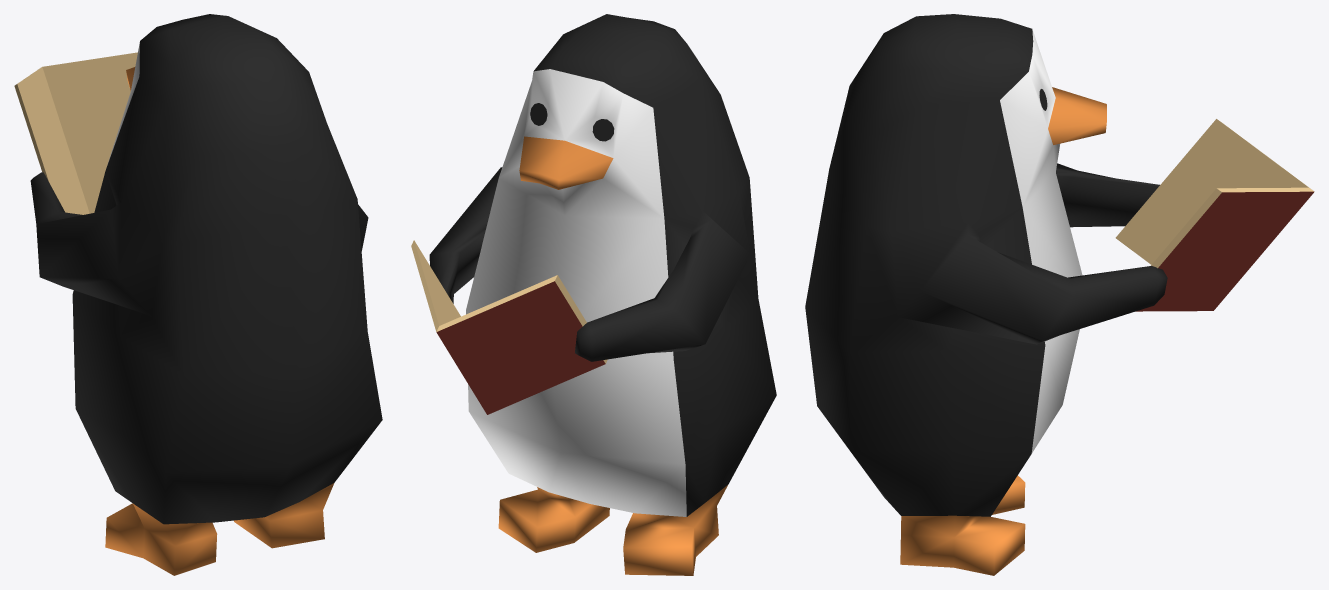
The model's file is ChoirGoop.gltf.
3 renders of one model, left to right at view 1: azimuth 30°, elevation 25°; view 2: azimuth 150°, elevation 25°; view 3: azimuth 270°, elevation 25°, orthographic.
Parts seen in each view (by area): view 1: Goopie DO NOT ADD ANIMATIONS; view 2: Goopie DO NOT ADD ANIMATIONS; view 3: Goopie DO NOT ADD ANIMATIONS.
Part boxes in pixels (left/top/right/bottom): Goopie DO NOT ADD ANIMATIONS: left=14, top=14, right=382, bottom=575; Goopie DO NOT ADD ANIMATIONS: left=411, top=14, right=776, bottom=575; Goopie DO NOT ADD ANIMATIONS: left=805, top=14, right=1314, bottom=575.
Size of the model in its own units: 0.4067 by 0.712 by 0.6511.
Materials: 1 (1 with a texture image).
